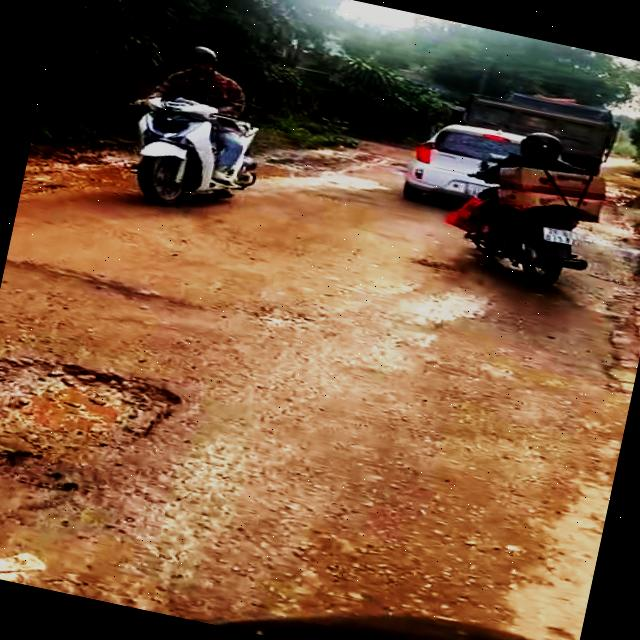pothole: (0, 244, 286, 377), (0, 337, 190, 516)
